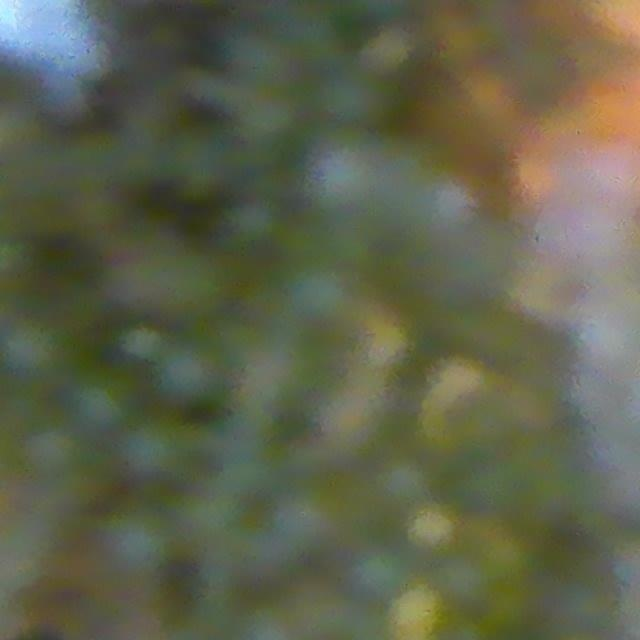SeaGrape: (301, 133, 391, 217), (264, 480, 352, 561), (97, 498, 178, 580), (117, 410, 197, 488), (278, 258, 357, 333), (63, 363, 139, 439), (0, 313, 75, 390), (154, 337, 224, 407), (370, 450, 438, 515), (346, 540, 414, 604), (21, 418, 88, 481), (405, 503, 462, 559)
